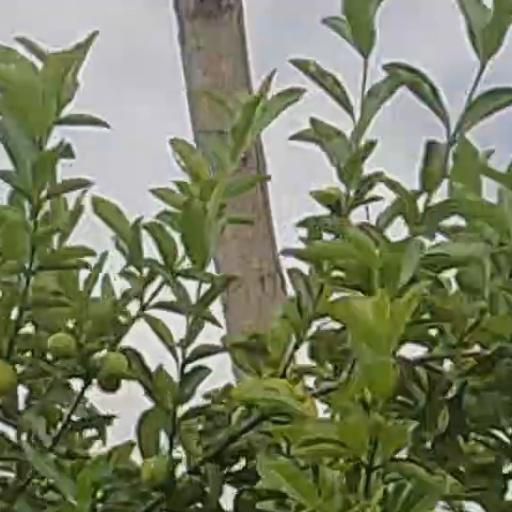acerola_verde: (49, 335, 79, 358), (1, 368, 19, 392)
